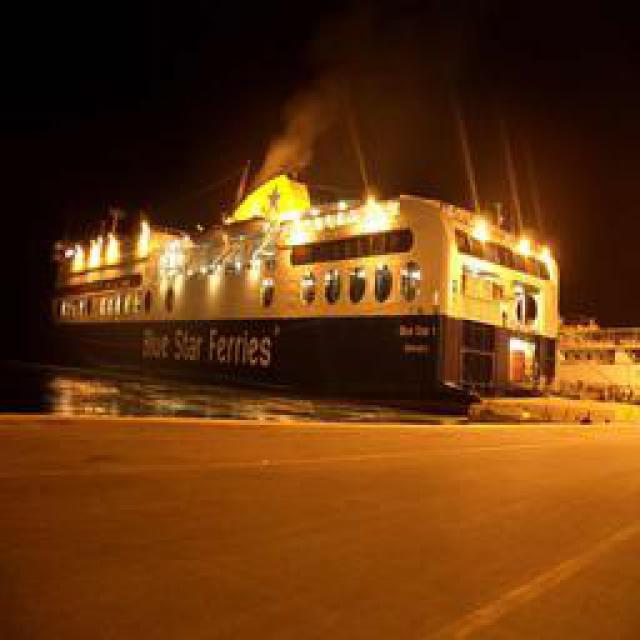Ship: (36, 116, 574, 409)
